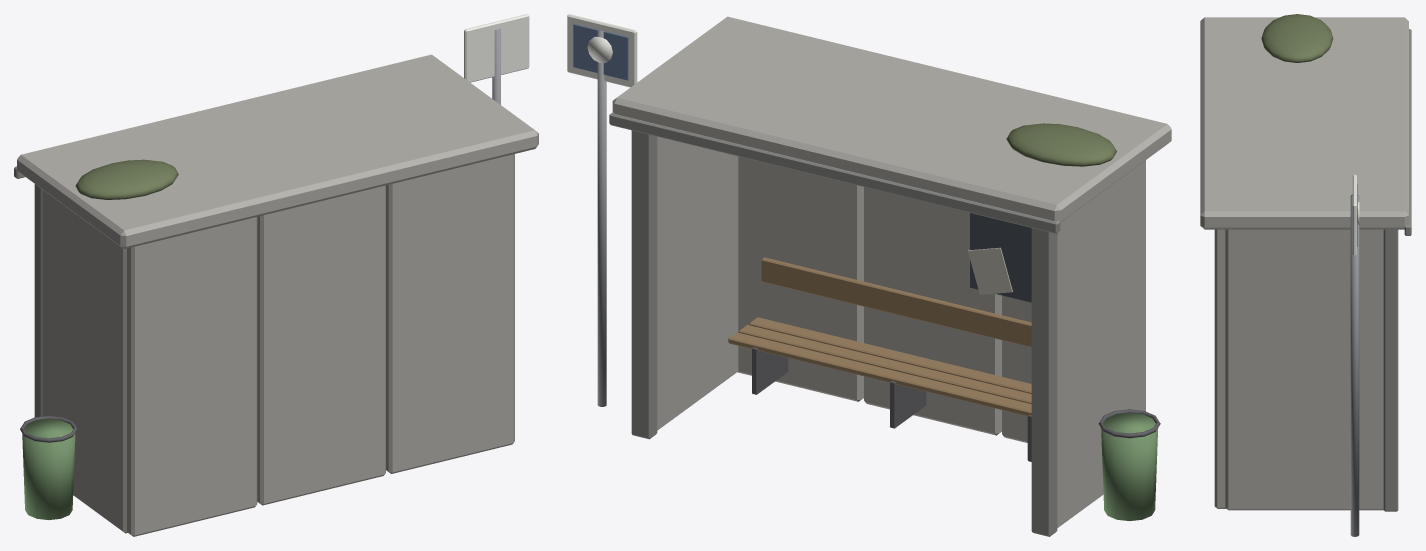
The model's file is v_bus_stop.glb.
3 renders of one model, left to right at view 1: azimuth 30°, elevation 25°; view 2: azimuth 150°, elevation 25°; view 3: azimuth 270°, elevation 25°, orthographic. The views are drawn at different scales.
Visible parts, largest first — view 1: Bus_Stop; view 2: Bus_Stop; view 3: Bus_Stop.
Part boxes in pixels (bbox=[...]): Bus_Stop: bbox=[14, 14, 538, 536]; Bus_Stop: bbox=[567, 14, 1171, 536]; Bus_Stop: bbox=[1200, 14, 1411, 536].
Size of what is drawn, in the model's own units: 4.1 by 2.65 by 1.47.
